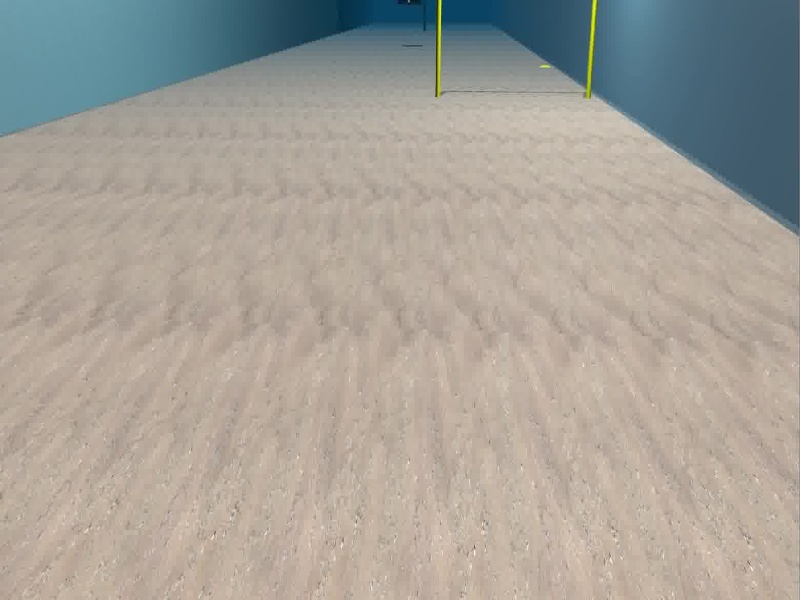gate: (433, 1, 598, 98)
